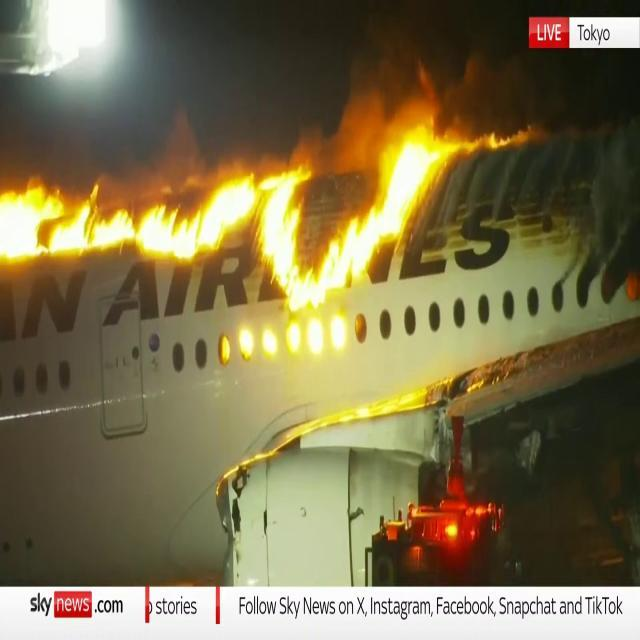Fire: (1, 156, 453, 344)
